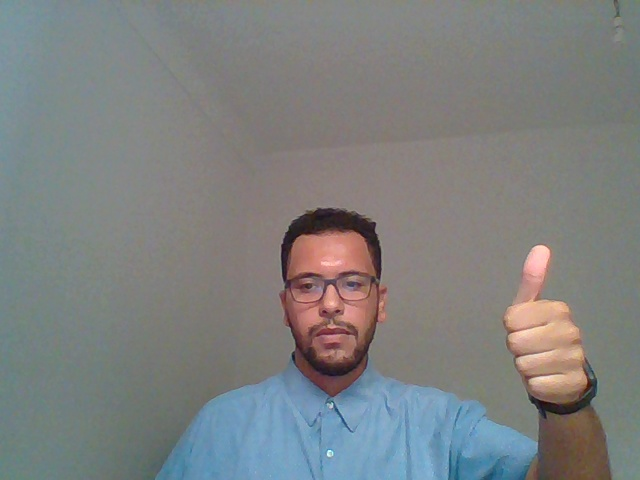ok: (474, 215, 613, 458)
